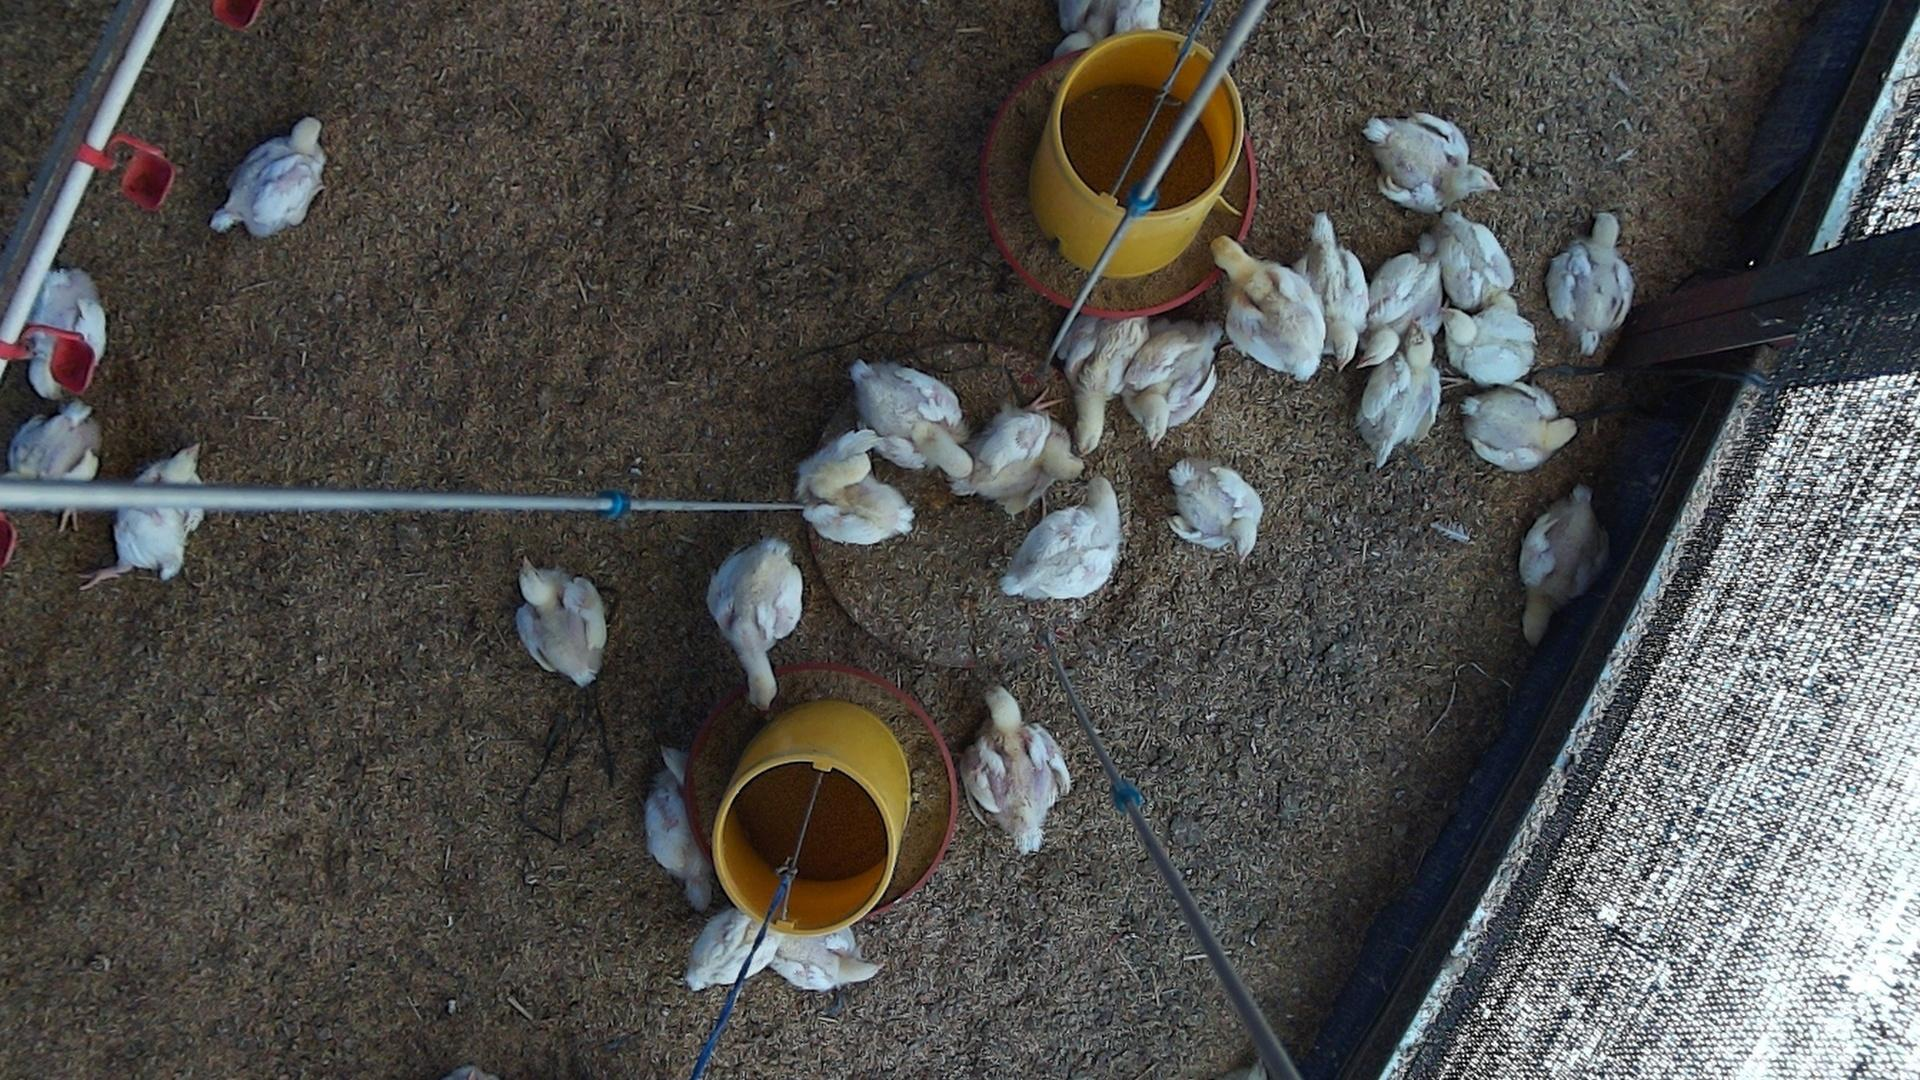ayam_broiler: (959, 688, 1071, 856), (79, 443, 202, 589), (708, 538, 803, 709), (1213, 236, 1325, 381), (851, 356, 975, 484), (1518, 480, 1610, 644), (998, 476, 1121, 599), (210, 117, 326, 239), (953, 406, 1076, 518), (1365, 116, 1497, 212), (1548, 212, 1634, 357), (794, 439, 914, 542), (15, 268, 107, 400), (1125, 322, 1220, 447), (1358, 330, 1443, 468), (517, 563, 607, 687), (647, 745, 715, 909), (1069, 318, 1146, 454), (1364, 251, 1445, 369), (1462, 388, 1577, 469), (1168, 460, 1262, 559), (1309, 218, 1369, 373), (741, 928, 882, 992), (1444, 295, 1538, 386), (5, 401, 99, 489), (1433, 212, 1516, 309), (1048, 1, 1163, 63), (686, 910, 764, 993)
